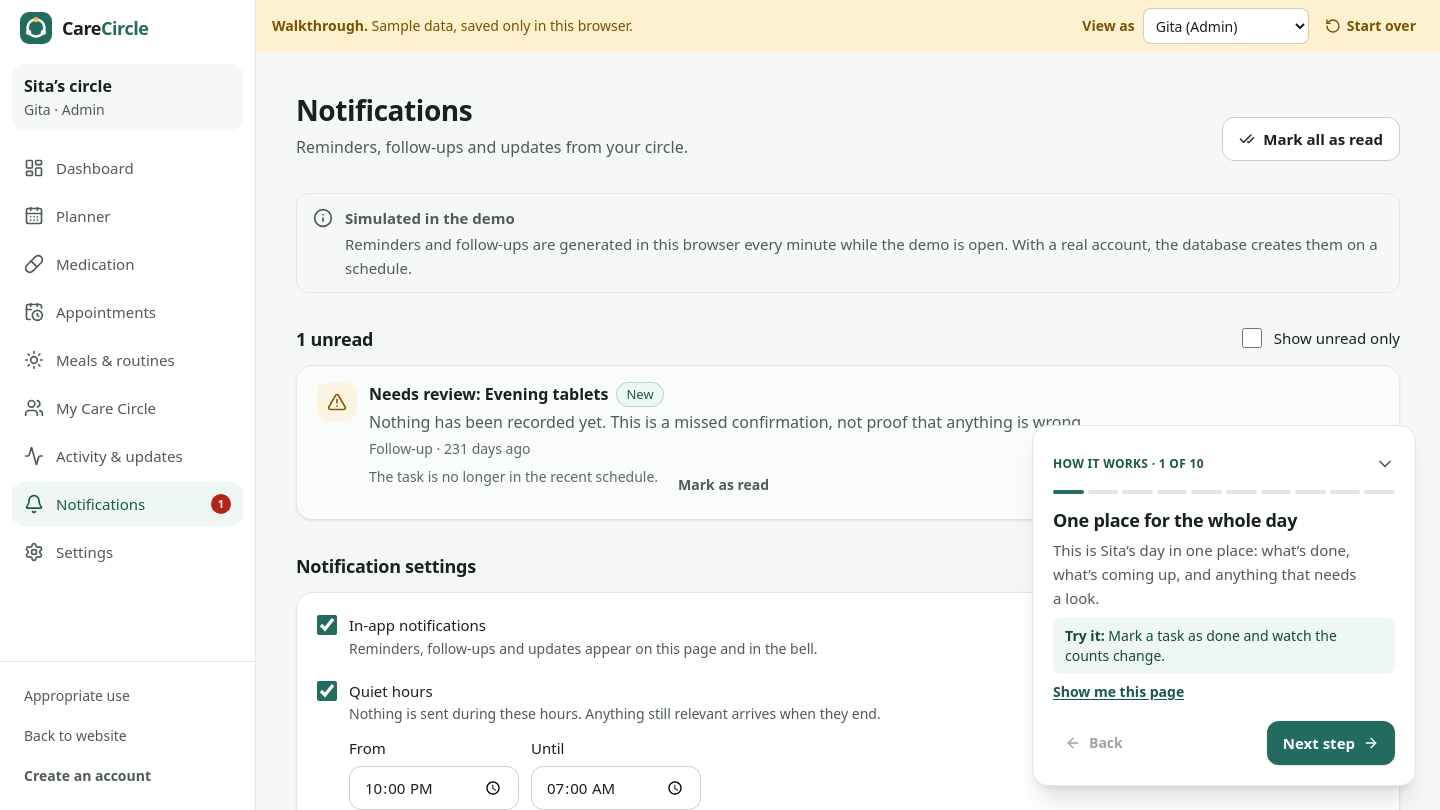
it: updates and notifications › lists notifications and marks them all as read
Step 1. Click the button "Mark all as read" → (1311, 139), box [1222, 117, 1400, 161]
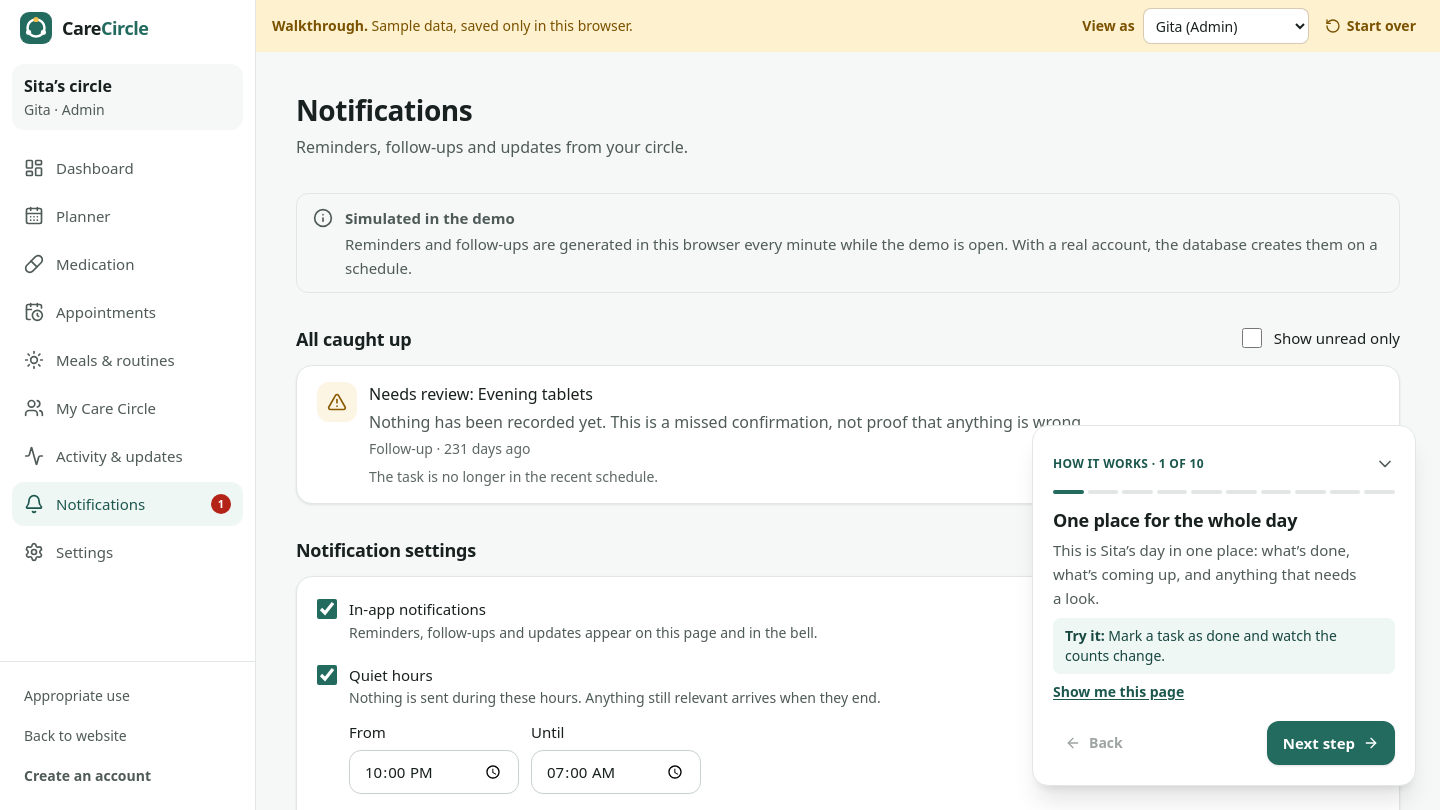
Result: the heading "All caught up" is shown at [296, 325, 412, 353]
